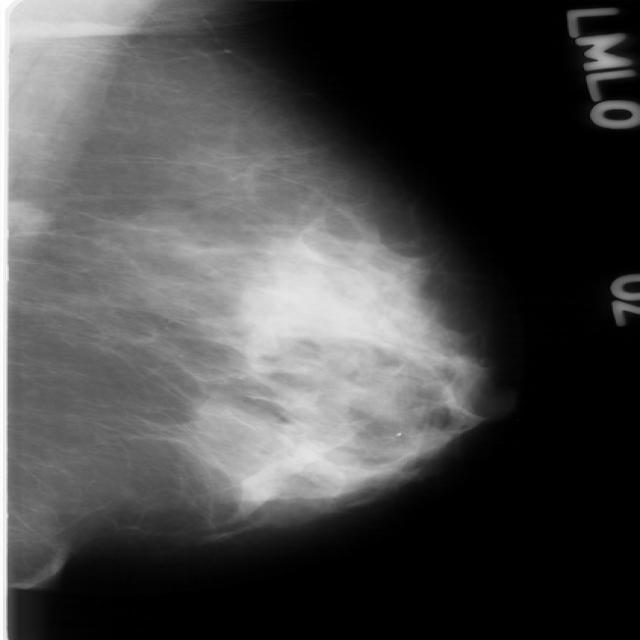tumour: (6, 198, 51, 237)
